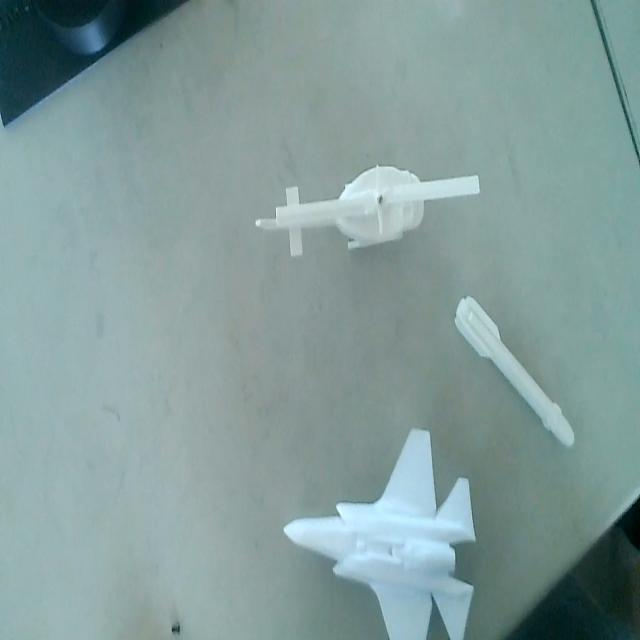Helicopter: (250, 158, 485, 259)
Jet: (279, 422, 479, 640)
Rocket: (454, 287, 576, 453)
